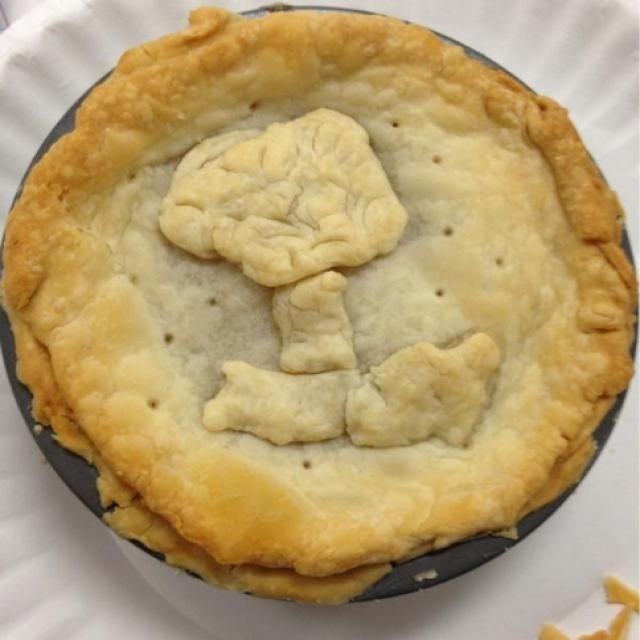Apple: (9, 10, 631, 580)
